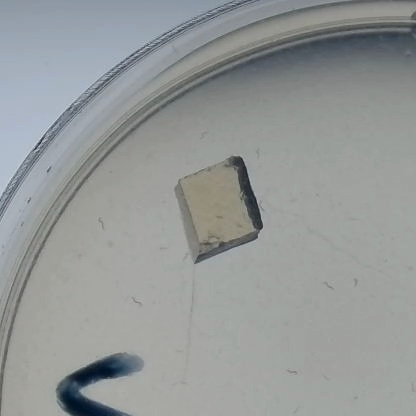worm: (90, 218, 124, 248), (312, 269, 335, 297), (127, 289, 153, 312), (282, 401, 312, 416), (319, 365, 337, 389), (174, 374, 197, 392), (194, 129, 219, 144), (346, 267, 360, 293), (279, 367, 301, 383), (155, 243, 175, 260), (249, 145, 269, 160), (405, 377, 416, 397), (179, 252, 187, 266)
